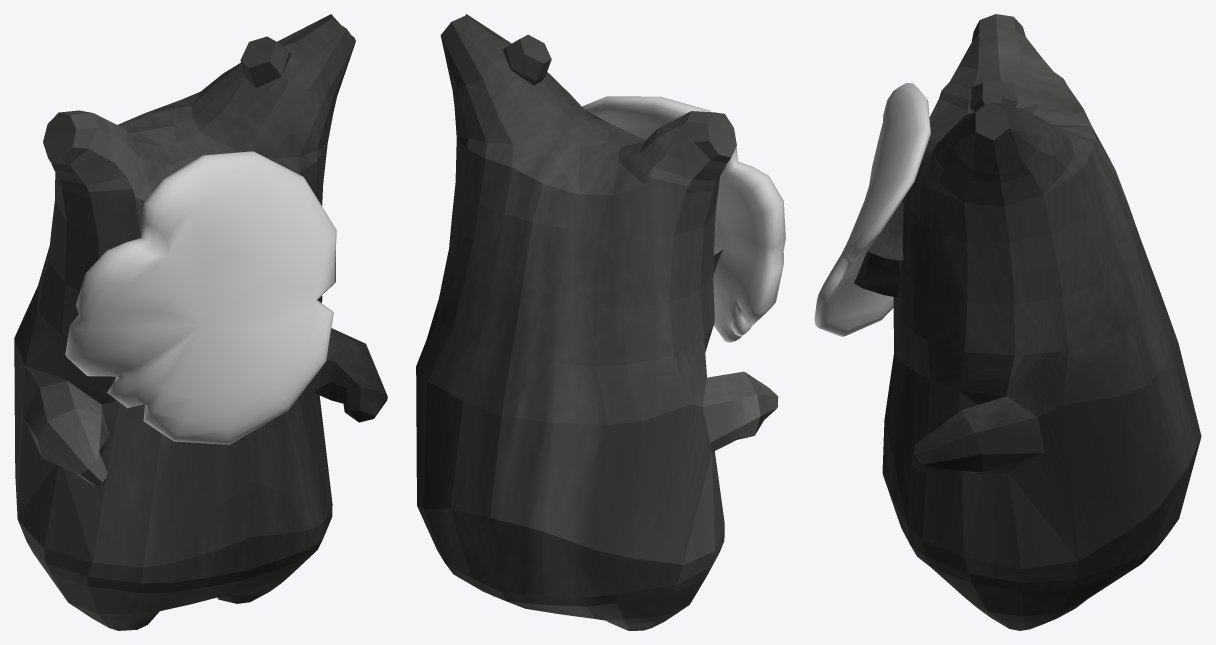
Rendered from frame_0008.obj.
3 renders of one model, left to right at view 1: azimuth 30°, elevation 25°; view 2: azimuth 150°, elevation 25°; view 3: azimuth 270°, elevation 25°, orthographic. The views are drawn at different scales.
Parts seen in each view (by area): view 1: korok, leaf; view 2: korok, leaf; view 3: korok, leaf, nose.
Part boxes in pixels (<box>): korok: <box>14,14,387,630</box>; leaf: <box>65,151,336,444</box>; korok: <box>416,14,778,630</box>; leaf: <box>582,96,785,342</box>; korok: <box>882,14,1201,630</box>; leaf: <box>814,83,930,336</box>; nose: <box>854,201,903,297</box>.
Size of the model in its own units: 1.36 by 2.25 by 1.41.
